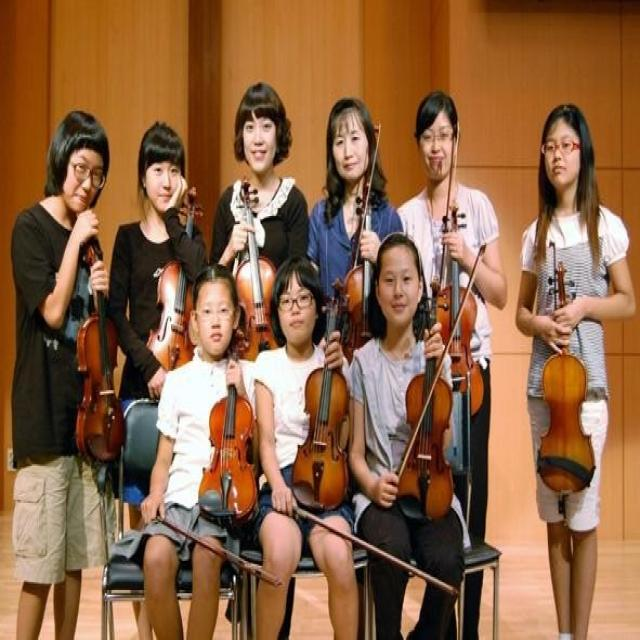violin: (292, 275, 354, 515), (535, 265, 596, 496), (396, 293, 454, 522), (74, 232, 128, 474), (198, 322, 260, 524), (431, 207, 486, 420), (148, 184, 204, 373), (234, 177, 280, 352), (342, 192, 383, 360)
